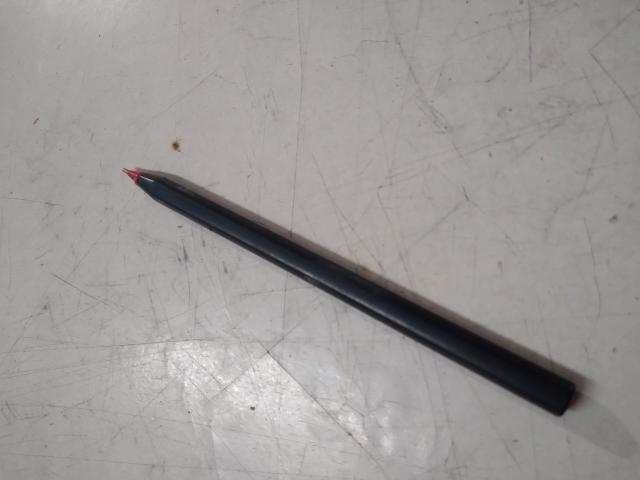PEN: (87, 108, 321, 480)
